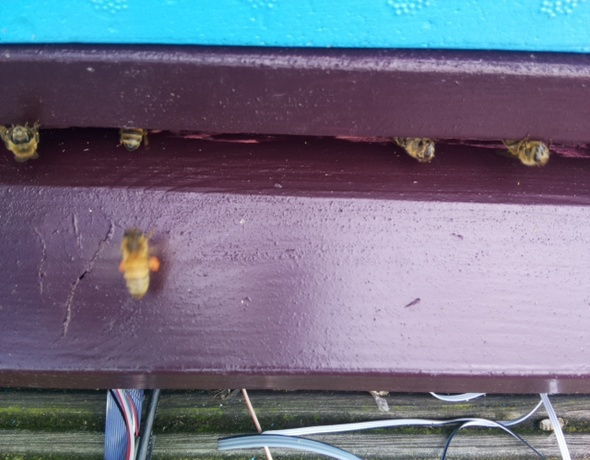no_pollen: (498, 131, 560, 170), (1, 115, 43, 165), (390, 127, 440, 167), (113, 117, 152, 158)
pollen: (113, 222, 163, 300)
